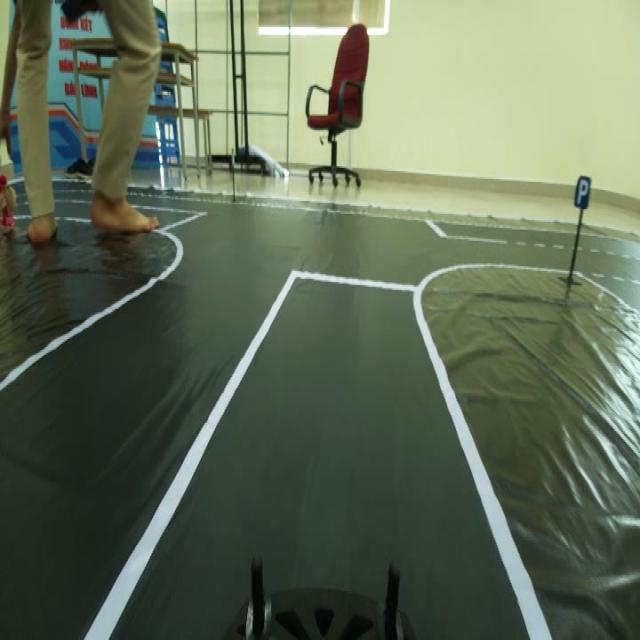parking: (572, 168, 598, 225)
